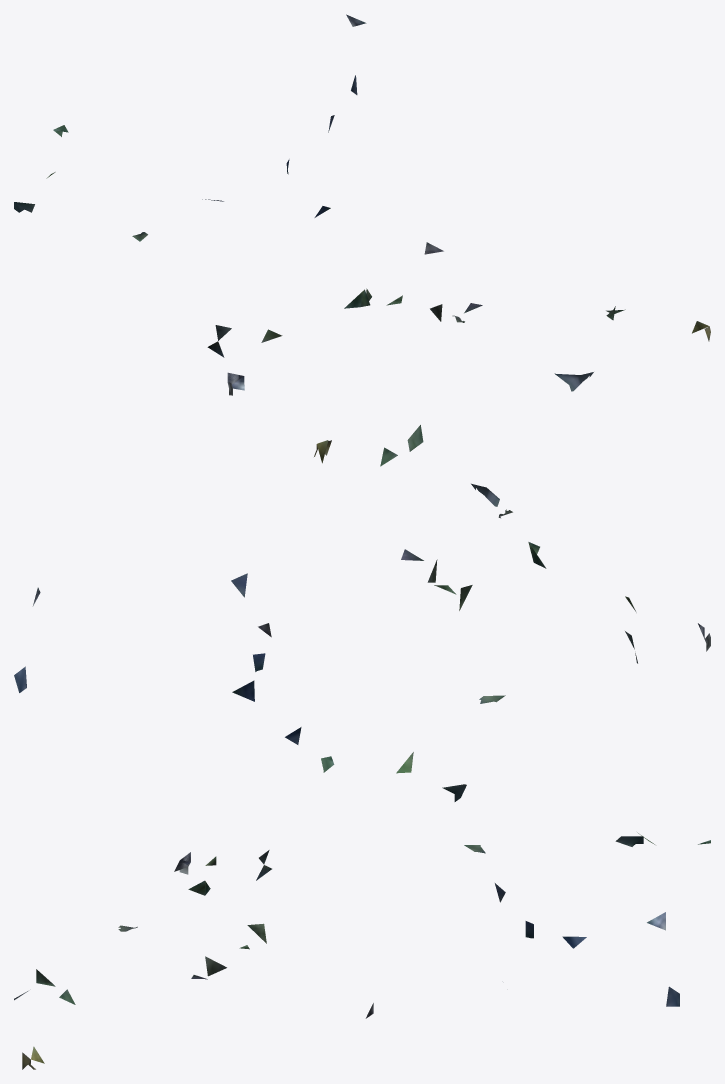
3 renders of one model, top to bottom at view 1: azimuth 30°, elevation 25°; view 2: azimuth 150°, elevation 25°; view 3: azimuth 270°, elevation 25°, orthographic. The views are drawn at different scales.
Visible parts, largest first — view 1: 3043627270436173561_1; view 2: 3043627270436173561_1; view 3: 3043627270436173561_1.
Boxes of the visible parts, bbox=[...] form: 3043627270436173561_1: bbox=[14, 14, 710, 395]; 3043627270436173561_1: bbox=[14, 425, 710, 801]; 3043627270436173561_1: bbox=[14, 832, 710, 1069].
Size of the model in its own units: 54.62 by 16.97 by 76.51.
Materials: 1 (1 with a texture image).
